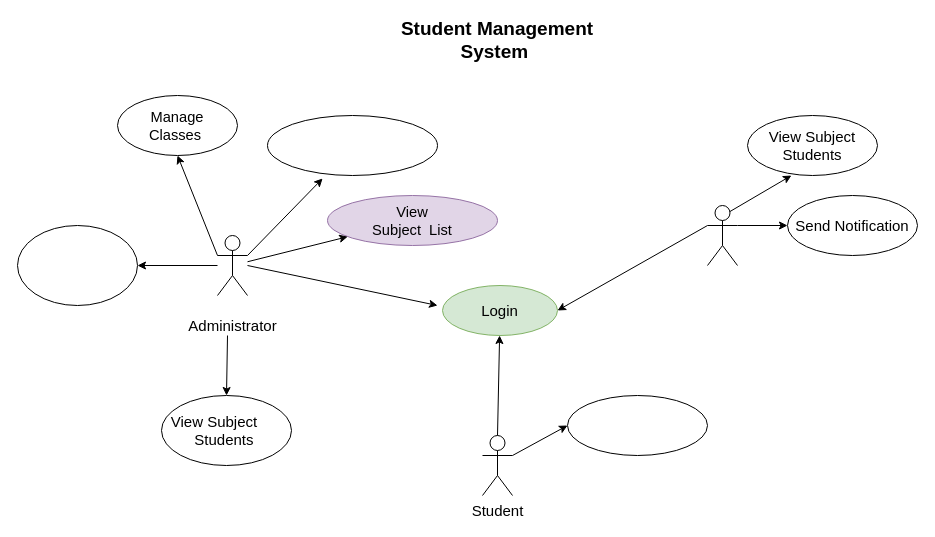
Some shapes in this 935 by 537 pixel diagram are drawn without their labels. Each missing label, with the centre of its shape:
Manage Students: the point at 77,265
Teacher: the point at 722,235
View Notification: the point at 637,425
· Teacher Registration: the point at 352,145
